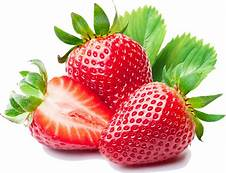Fresa: (94, 77, 200, 171), (19, 73, 117, 158), (65, 30, 156, 113)
